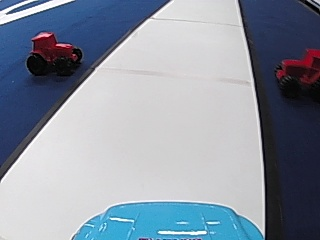tractor: (24, 29, 83, 76), (273, 45, 319, 100)
